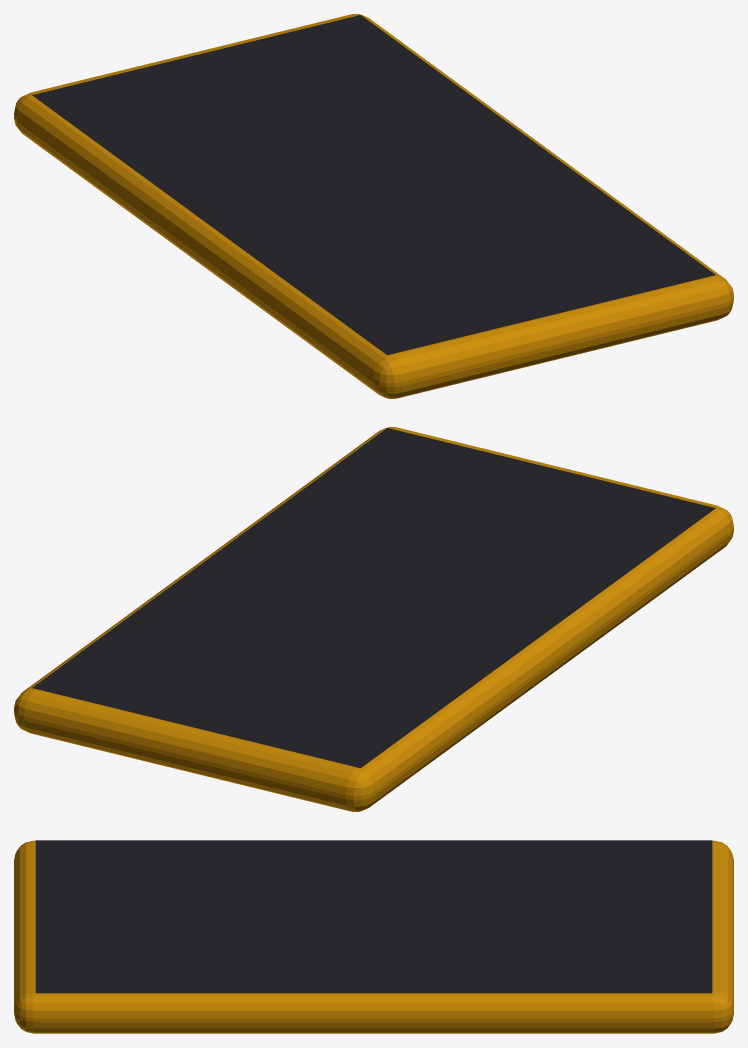
The model's file is vivo-t-model-64-budget-2024.glb.
3 renders of one model, top to bottom at view 1: azimuth 30°, elevation 25°; view 2: azimuth 150°, elevation 25°; view 3: azimuth 270°, elevation 25°, orthographic. The views are drawn at different scales.
Parts seen in each view (by area): view 1: Phone_Screen, Phone_Body; view 2: Phone_Screen, Phone_Body; view 3: Phone_Screen, Phone_Body.
Boxes of the visible parts, bbox=[...] form: Phone_Screen: bbox=[32, 15, 715, 355]; Phone_Body: bbox=[14, 14, 733, 398]; Phone_Screen: bbox=[32, 428, 715, 768]; Phone_Body: bbox=[14, 427, 733, 811]; Phone_Screen: bbox=[35, 840, 712, 993]; Phone_Body: bbox=[14, 840, 733, 1033].
Bounding box in the file's own units: 0.0796 × 0.009 × 0.1458.
